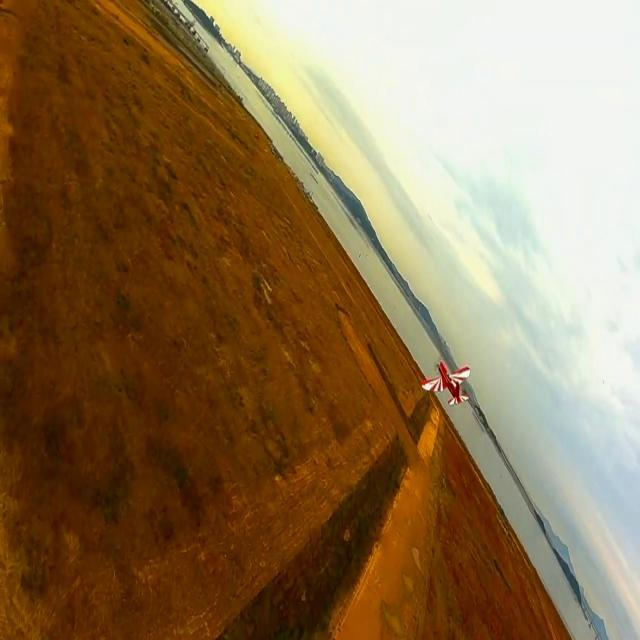iha: (440, 375, 457, 396)
